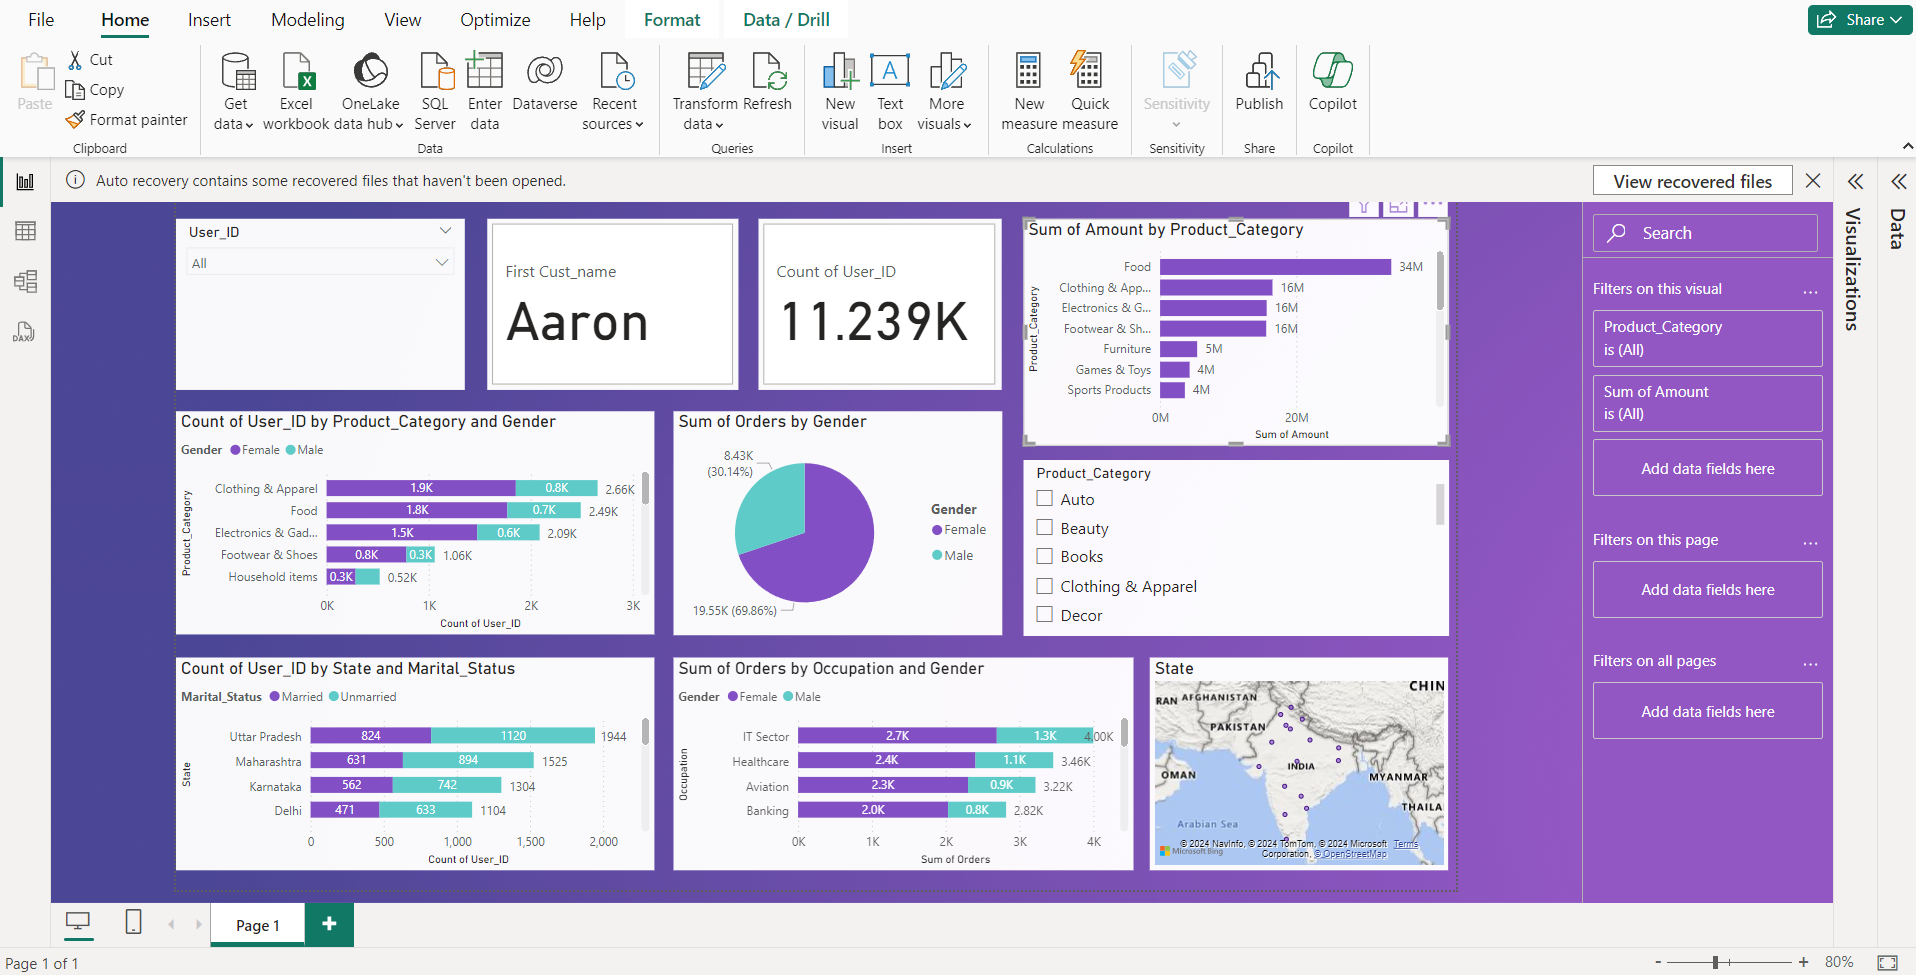

What the dashboard file says about the page in this screenshot:
{"tool":"powerbi","page":{"name":"Page 1","canvas":[1280,720],"ordinal":0},"visuals":[{"type":"slicer","fields":{"Values":["Diwali_Sales_Data.User_ID"]},"box":[0,48.6,288.6,171.4],"z":0},{"type":"cardVisual","fields":{"Data":["Diwali_Sales_Data.User_ID"]},"box":[582.9,48.6,242.9,171.4],"z":1},{"type":"cardVisual","fields":{"Data":["Diwali_Sales_Data.Cust_name"]},"box":[311.4,48.6,251.4,171.4],"z":2},{"type":"barChart","fields":{"Category":["Diwali_Sales_Data.Product_Category"],"Y":["Diwali_Sales_Data.User_ID"],"Series":["Diwali_Sales_Data.Gender"]},"box":[0,241.4,478.6,222.9],"z":3},{"type":"barChart","fields":{"Category":["Diwali_Sales_Data.State"],"Y":["Diwali_Sales_Data.User_ID"],"Series":["Diwali_Sales_Data.Marital_Status"]},"box":[0,487.1,478.6,212.9],"z":4},{"type":"map","fields":{"Category":["Diwali_Sales_Data.State"]},"box":[974.3,487.1,298.6,212.9],"z":5},{"type":"barChart","fields":{"Category":["Diwali_Sales_Data.Occupation"],"Y":["Diwali_Sales_Data.Orders"],"Series":["Diwali_Sales_Data.Gender"]},"box":[497.1,487.1,460,212.9],"z":6},{"type":"pieChart","fields":{"Category":["Diwali_Sales_Data.Gender"],"Y":["Diwali_Sales_Data.Orders"]},"box":[497.1,241.4,328.6,224.3],"z":7},{"type":"barChart","fields":{"Category":["Diwali_Sales_Data.Product_Category"],"Y":["Diwali_Sales_Data.Amount"]},"box":[847.1,48.6,425.7,227.1],"z":8},{"type":"slicer","fields":{"Values":["Diwali_Sales_Data.Product_Category"]},"box":[847.1,290,425.7,175.7],"z":9}]}

Visuals, with their boxes on the page's 1280x720 design canvas (x1, y1, x2, y2). These are canvas units, not pixel positions in the 1916x975 screenshot, which may show the page scaled, cropped or inside an application window:
slicer - Diwali_Sales_Data.User_ID: [0, 49, 289, 220]
cardVisual - Diwali_Sales_Data.User_ID: [583, 49, 826, 220]
cardVisual - Diwali_Sales_Data.Cust_name: [311, 49, 563, 220]
barChart - Diwali_Sales_Data.Product_Category x Diwali_Sales_Data.User_ID: [0, 241, 479, 464]
barChart - Diwali_Sales_Data.State x Diwali_Sales_Data.User_ID: [0, 487, 479, 700]
map - Diwali_Sales_Data.State: [974, 487, 1273, 700]
barChart - Diwali_Sales_Data.Occupation x Diwali_Sales_Data.Orders: [497, 487, 957, 700]
pieChart - Diwali_Sales_Data.Gender x Diwali_Sales_Data.Orders: [497, 241, 826, 466]
barChart - Diwali_Sales_Data.Product_Category x Diwali_Sales_Data.Amount: [847, 49, 1273, 276]
slicer - Diwali_Sales_Data.Product_Category: [847, 290, 1273, 466]
